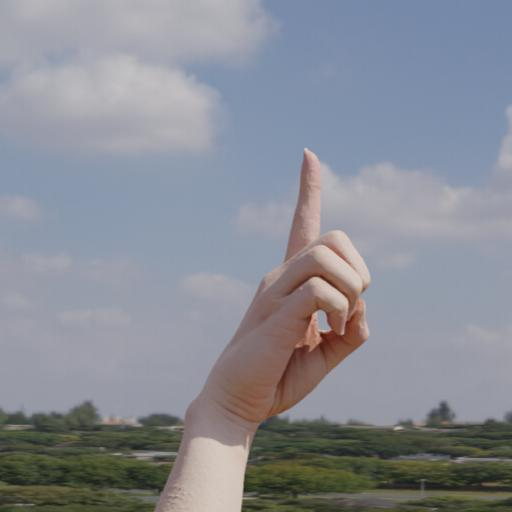D: (162, 117, 406, 473)
